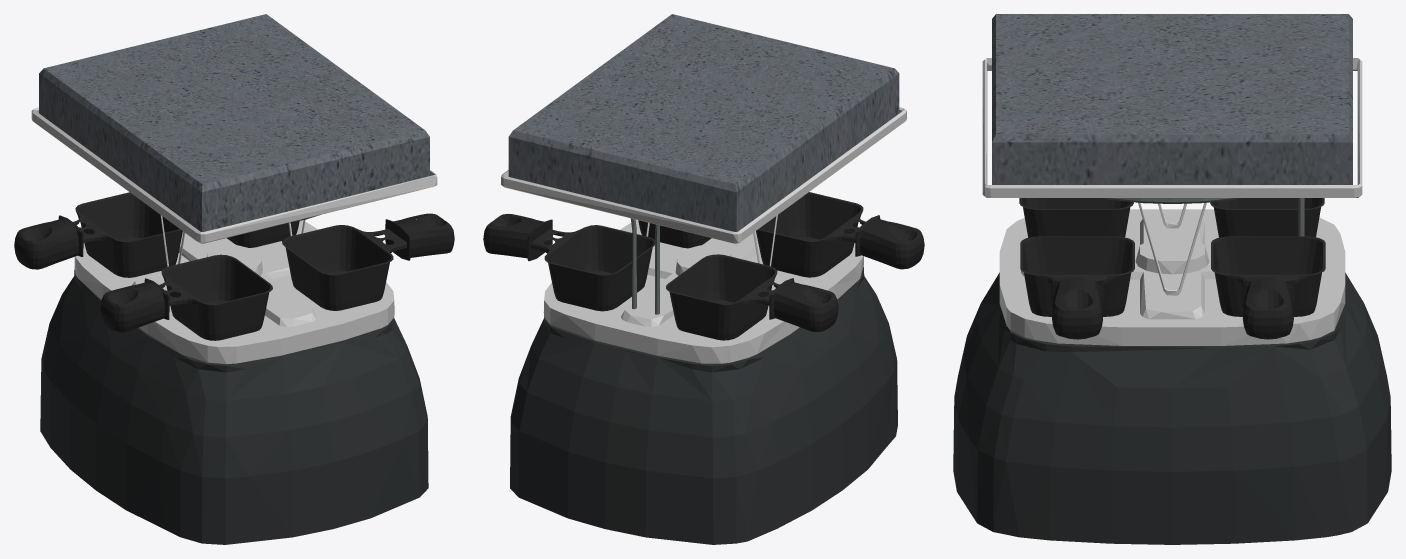
Rendered from sh-scopia-stone-grill-device.glb.
3 renders of one model, left to right at view 1: azimuth 30°, elevation 25°; view 2: azimuth 150°, elevation 25°; view 3: azimuth 270°, elevation 25°, orthographic. The views are drawn at different scales.
Visible parts, largest first — view 1: base_Cube, stone_Cube.005, palette3_Cube.008, metalSupportStone_Plane.003, handlePalette2_Cube.011; view 2: base_Cube, stone_Cube.005, palette3_Cube.008, metalSupportStone_Plane.003, handlePalette2_Cube.011, resistance_Circle.001; view 3: base_Cube, stone_Cube.005, metalSupportStone_Plane.003, palette3_Cube.008, handlePalette2_Cube.011, brackets_Plane.001, resistance_Circle.001.
Part boxes in pixels (bbox=[...]): base_Cube: bbox=[40, 267, 428, 544]; stone_Cube.005: bbox=[39, 14, 429, 231]; palette3_Cube.008: bbox=[73, 192, 406, 340]; metalSupportStone_Plane.003: bbox=[31, 107, 437, 363]; handlePalette2_Cube.011: bbox=[14, 213, 454, 332]; base_Cube: bbox=[510, 266, 897, 544]; stone_Cube.005: bbox=[508, 14, 899, 231]; palette3_Cube.008: bbox=[531, 192, 865, 340]; metalSupportStone_Plane.003: bbox=[501, 107, 906, 363]; handlePalette2_Cube.011: bbox=[483, 214, 924, 332]; resistance_Circle.001: bbox=[630, 218, 659, 314]; base_Cube: bbox=[953, 272, 1391, 544]; stone_Cube.005: bbox=[992, 14, 1352, 184]; metalSupportStone_Plane.003: bbox=[982, 58, 1362, 345]; palette3_Cube.008: bbox=[1019, 198, 1325, 316]; handlePalette2_Cube.011: bbox=[1050, 276, 1294, 339]; brackets_Plane.001: bbox=[1138, 202, 1206, 295]; resistance_Circle.001: bbox=[1102, 198, 1304, 236].
Size of the model in its own units: 1 by 1 by 1.
7 materials, 1 textured.
